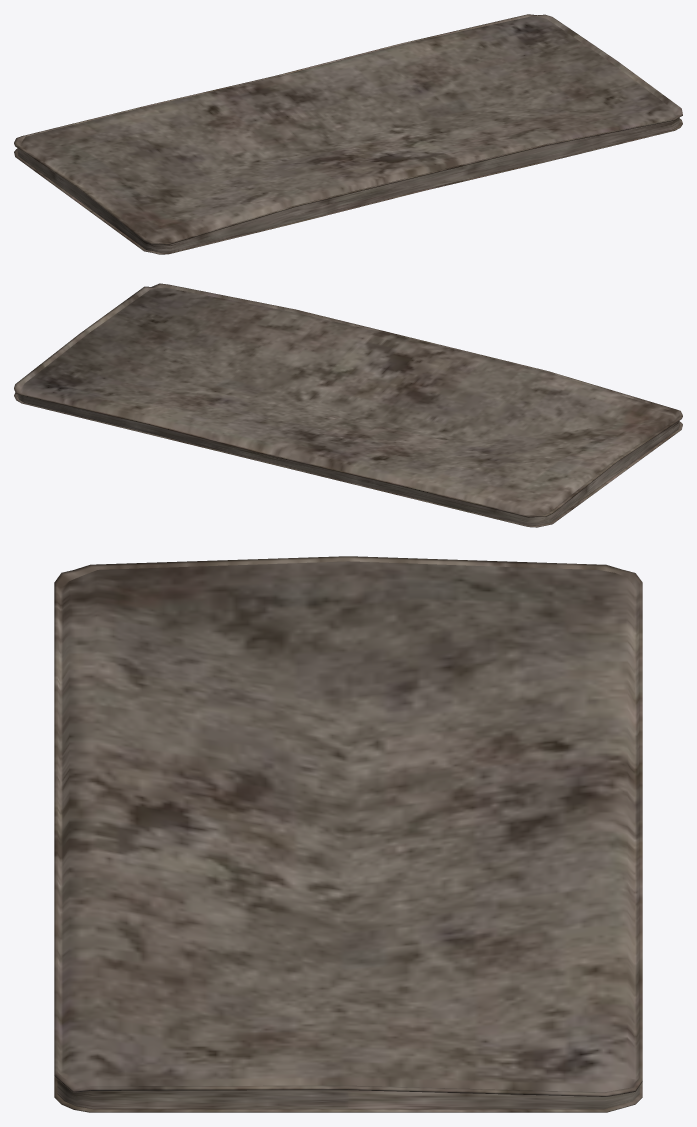
The model's file is bw-mattress.lod0.glb.
3 views of the same model, one above another, from view 1: azimuth 30°, elevation 25°; view 2: azimuth 150°, elevation 25°; view 3: azimuth 270°, elevation 25° (orthographic). The views are drawn at different scales.
Visible parts, largest first — view 1: matrac_Old_matrac_0; view 2: matrac_Old_matrac_0; view 3: matrac_Old_matrac_0.
Part boxes in pixels (bbox=[...]): matrac_Old_matrac_0: bbox=[14, 14, 682, 254]; matrac_Old_matrac_0: bbox=[14, 283, 682, 527]; matrac_Old_matrac_0: bbox=[54, 556, 642, 1112].
Bounding box in the file's own units: 1.9 × 0.0751 × 0.9.
Materials: 1 (1 with a texture image).
